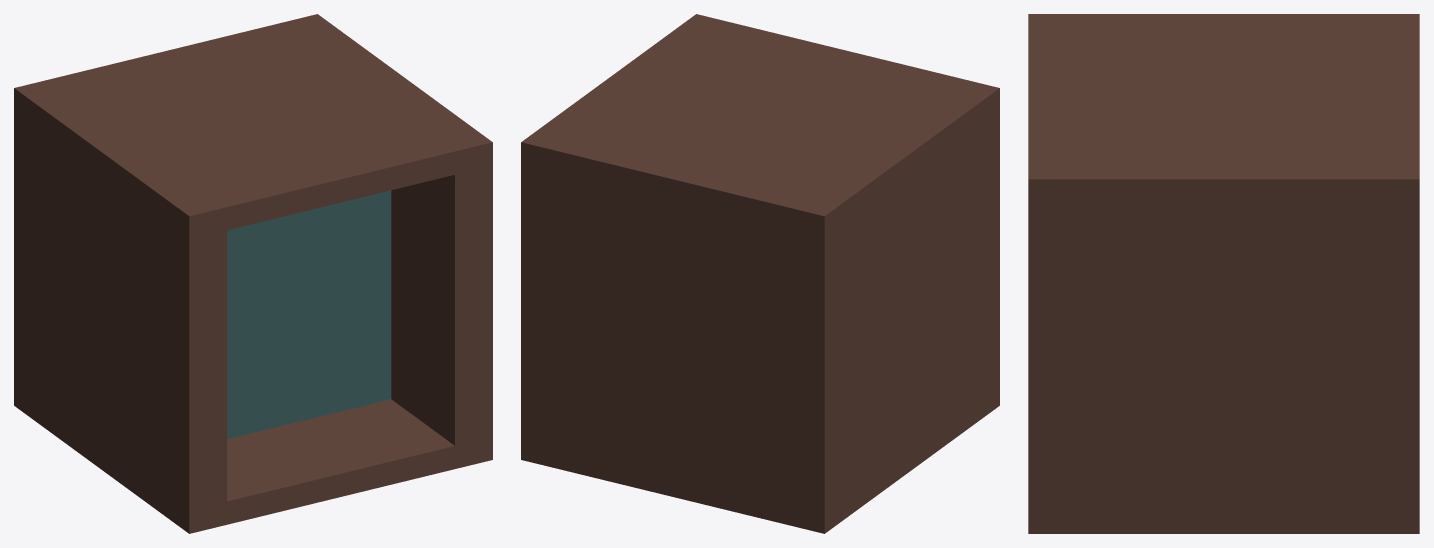
The model's file is WindowSquare.obj.
The picture shows the model from 3 angles, left to right: view 1: azimuth 30°, elevation 25°; view 2: azimuth 150°, elevation 25°; view 3: azimuth 270°, elevation 25°; orthographic projection. The views are drawn at different scales.
Bounding box in the file's own units: 1 × 1 × 1.
